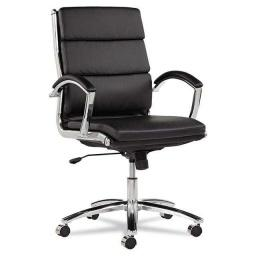Chair: (48, 7, 205, 248)
